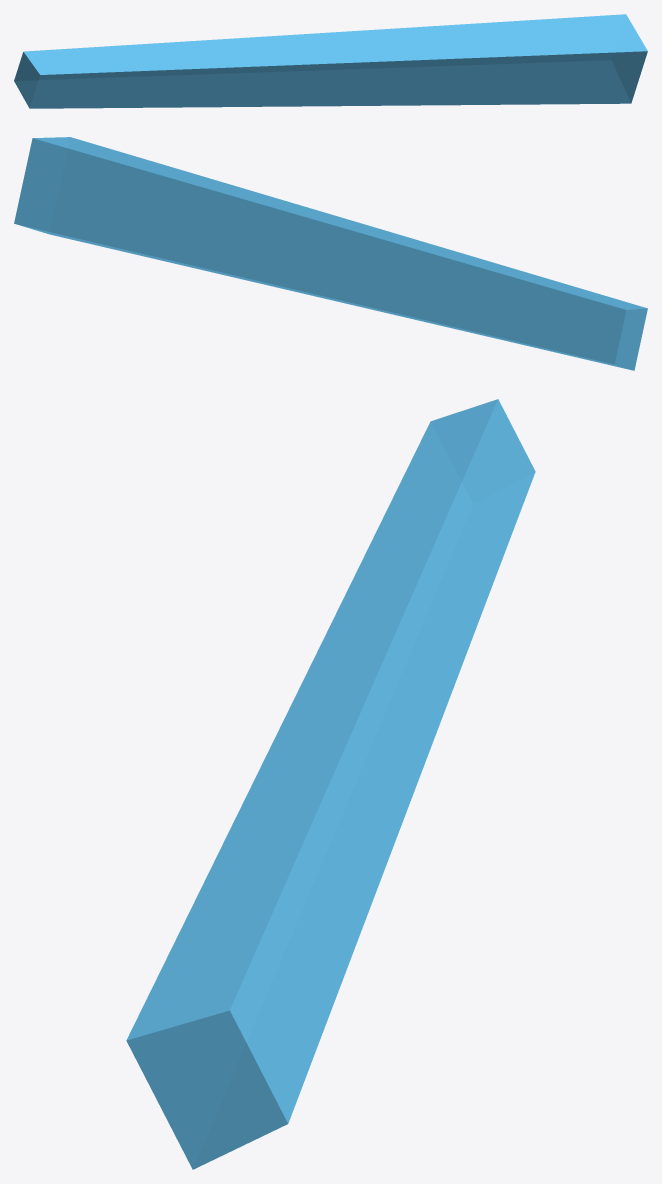
File: Event_421127236_HErechit_15.fbx
3 renders of one model, top to bottom at view 1: azimuth 30°, elevation 25°; view 2: azimuth 150°, elevation 25°; view 3: azimuth 270°, elevation 25°, orthographic. The views are drawn at different scales.
Parts seen in each view (by area): view 1: Model; view 2: Model; view 3: Model.
Part boxes in pixels (x1,y1,x2,y2): Model: (14,14,647,108); Model: (14,137,647,370); Model: (126,399,535,1169).
Size of the model in its own units: 5.73 by 1.29 by 1.89.
